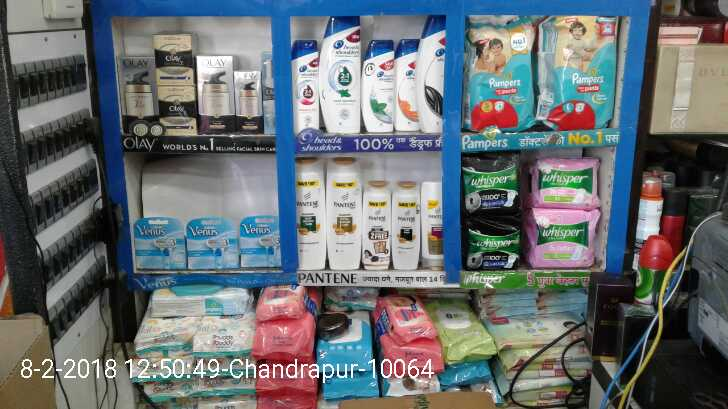venus: (134, 217, 187, 270), (187, 217, 240, 266), (240, 218, 280, 266)
